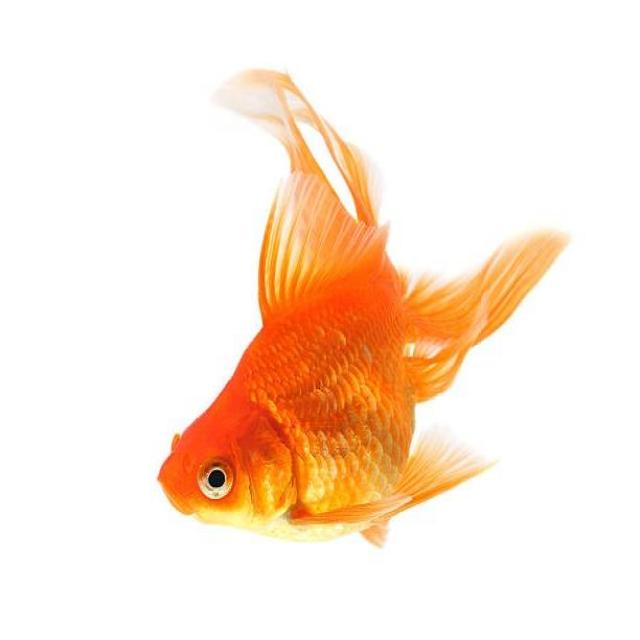GoldFish: (151, 62, 582, 554)
